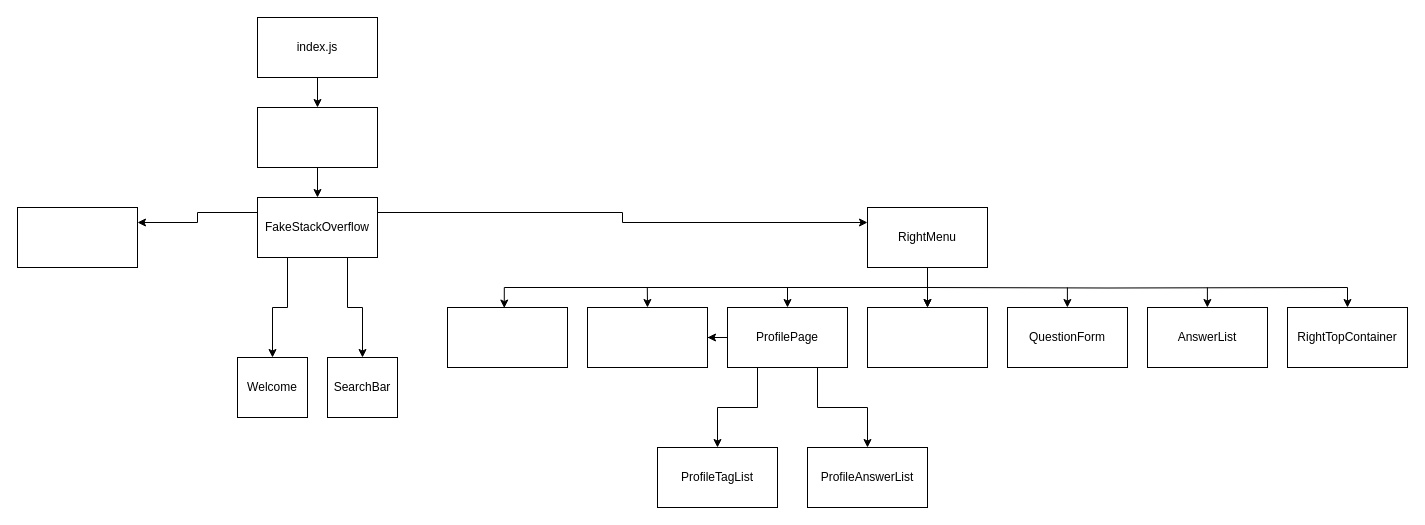
The diagram is 1425 pixels wide and 525 high, and some of its shapes have lost their labels. The shapes that lost their labels are listed below. From the top down, each one's centre as x and y in pixels, then its label:
At [317,137]: "App".
At [77,237]: "LeftMenu".
At [507,337]: "TagList".
At [647,337]: "QuestionList".
At [927,337]: "AnswerForm".
